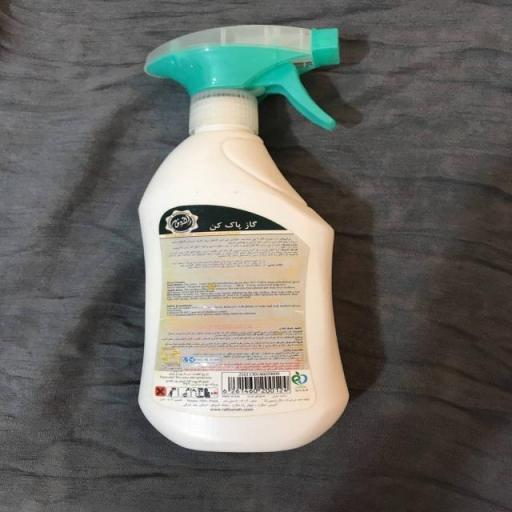plastic: (137, 24, 351, 455)
